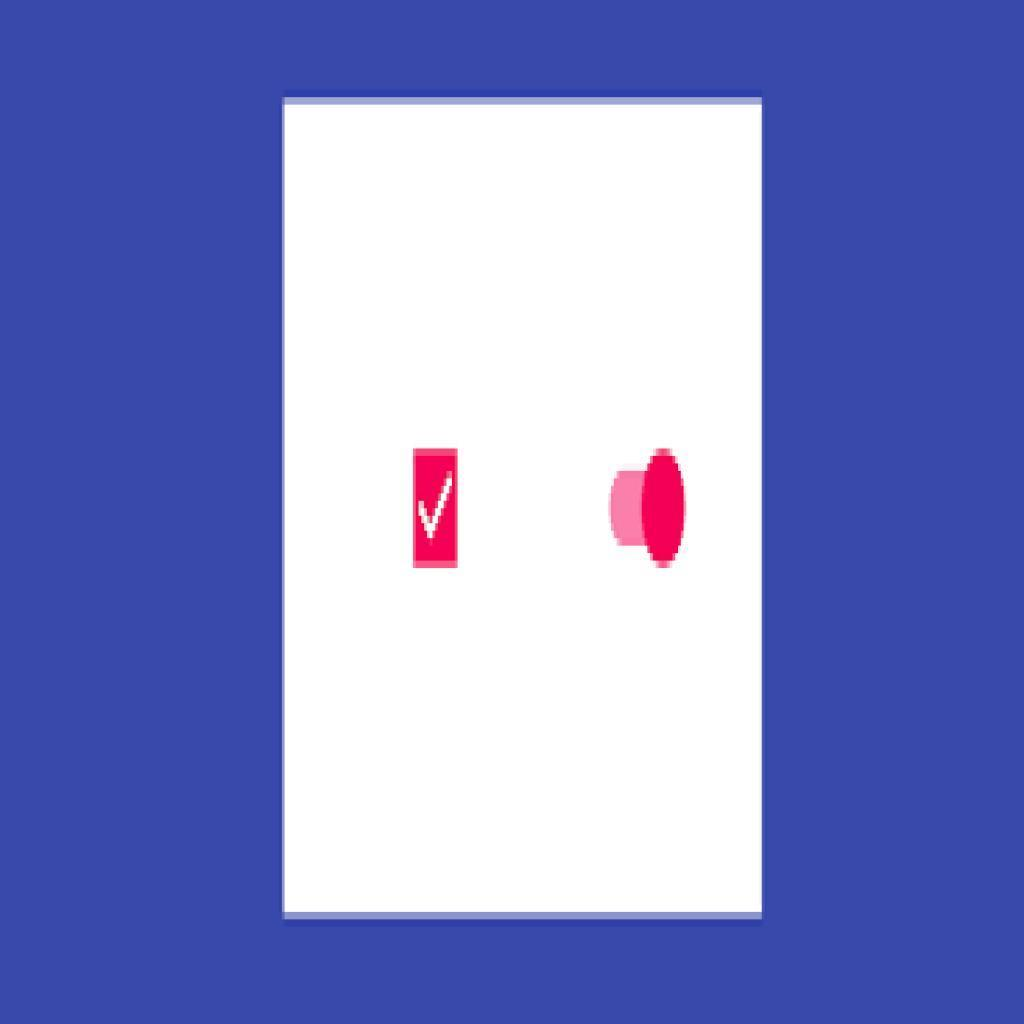checkbox: (412, 451, 461, 572)
switch: (608, 447, 691, 572)
